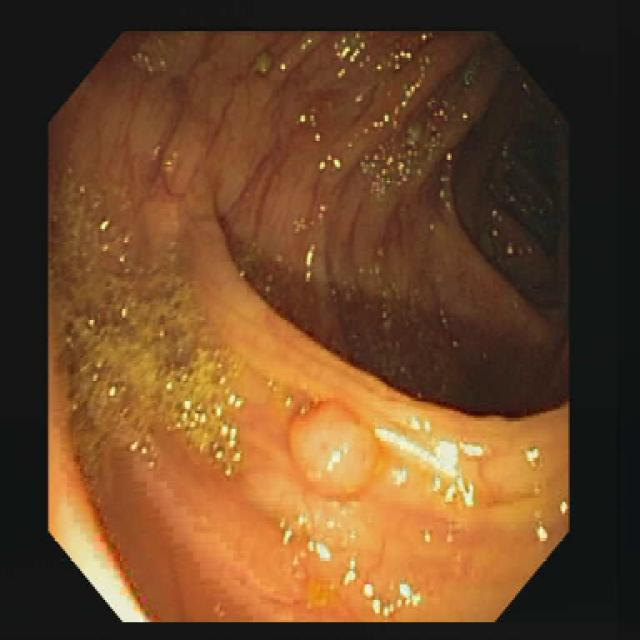tumor: (290, 402, 378, 493)
